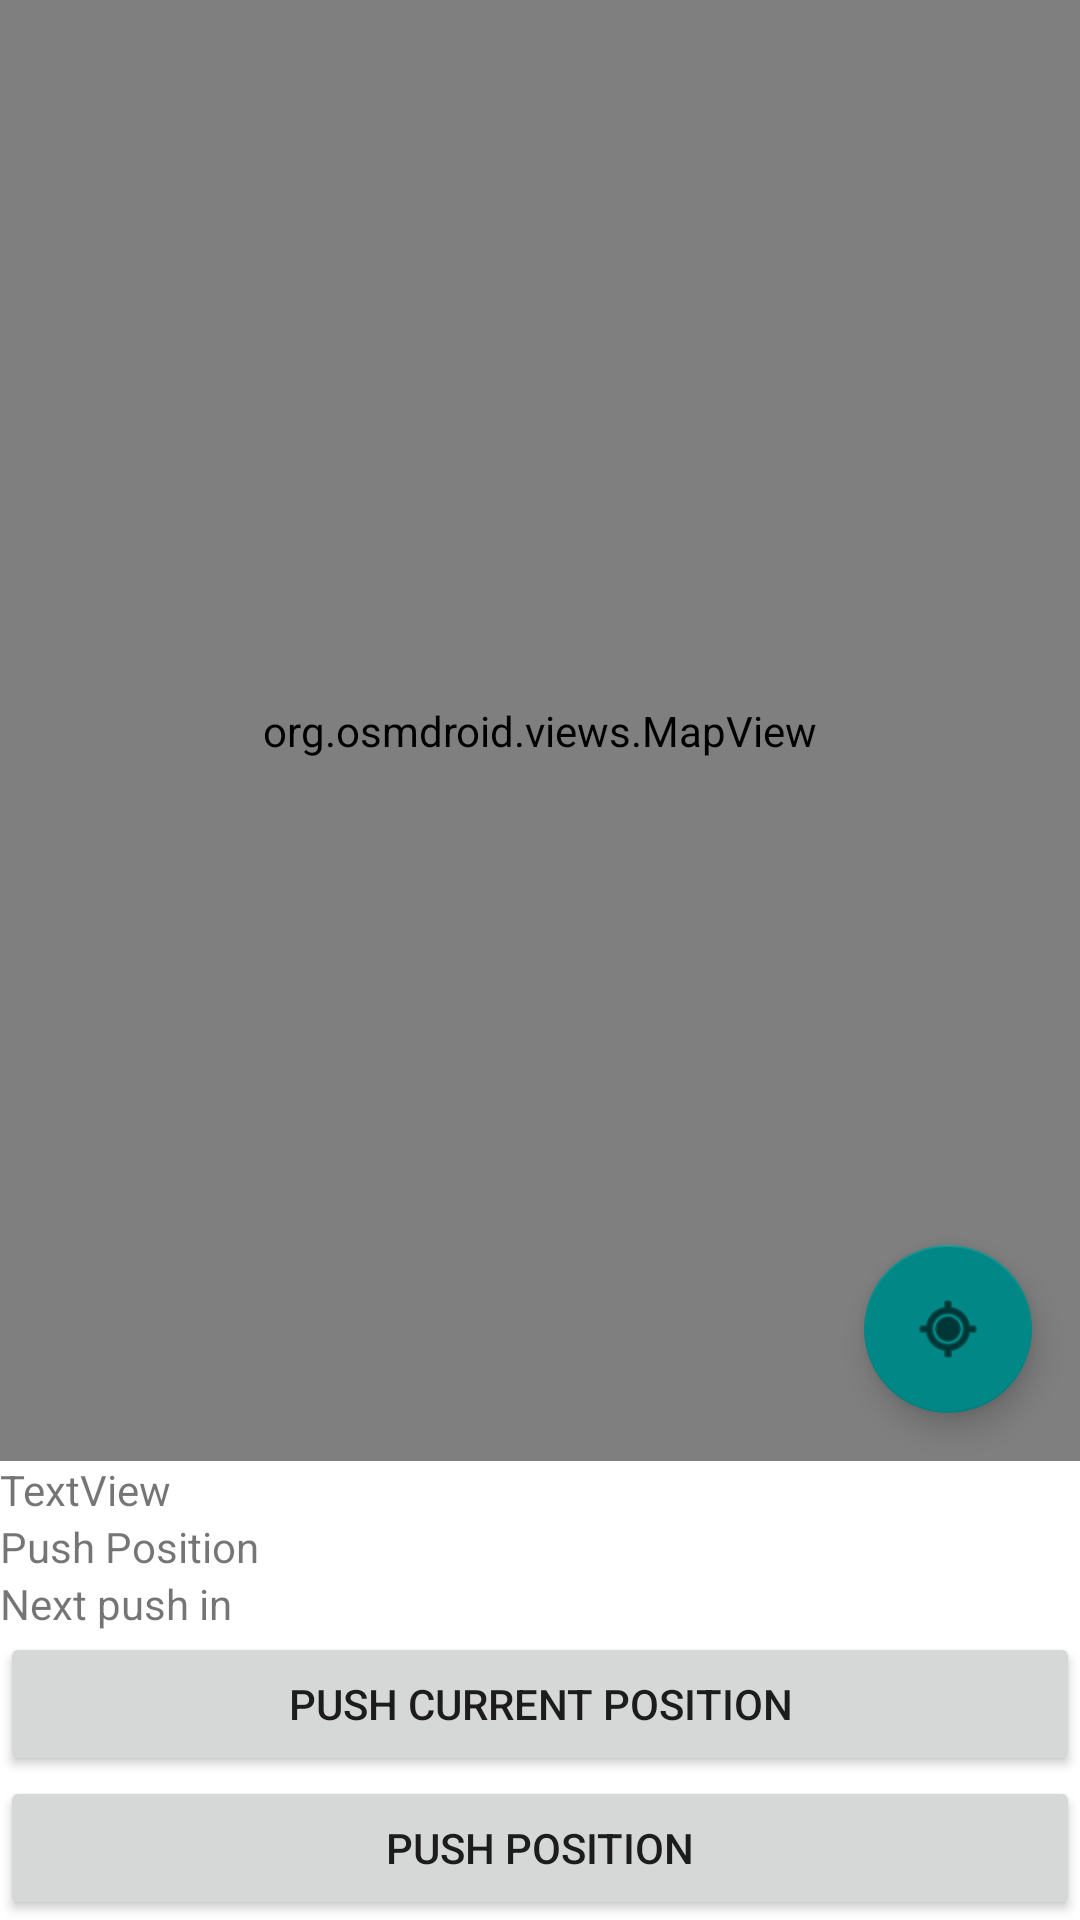

Named icons in this screenshot (1080 x 1920) and their bounding boxes, (x1, y1, x2, y2):
mylocation: (864, 1245, 1032, 1413)
